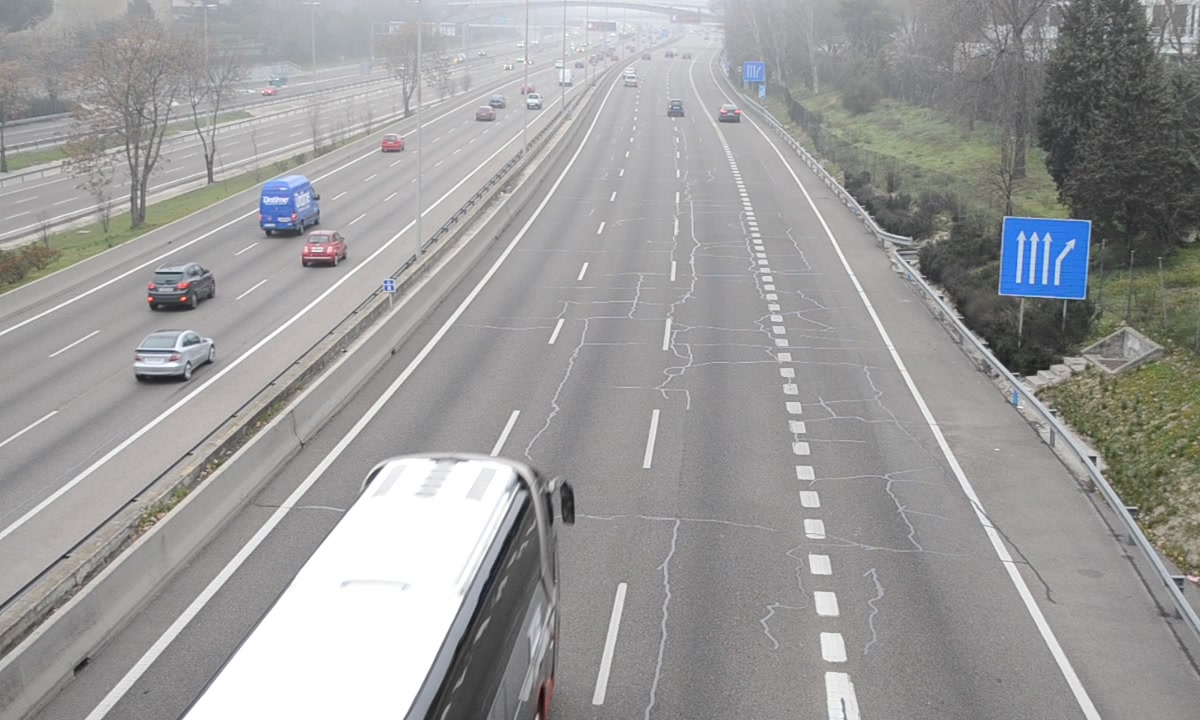bus: (176, 455, 566, 718)
car: (717, 104, 741, 124), (666, 98, 687, 119)
